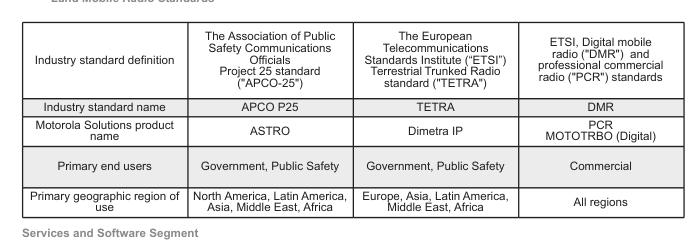table: (28, 28, 662, 212)
table column: (353, 28, 522, 212), (185, 28, 353, 212), (28, 28, 185, 212), (522, 28, 662, 212)
table column header: (28, 28, 662, 93)
table row: (28, 28, 662, 93), (28, 114, 662, 150), (28, 179, 662, 212), (28, 150, 662, 179), (28, 93, 662, 114)
